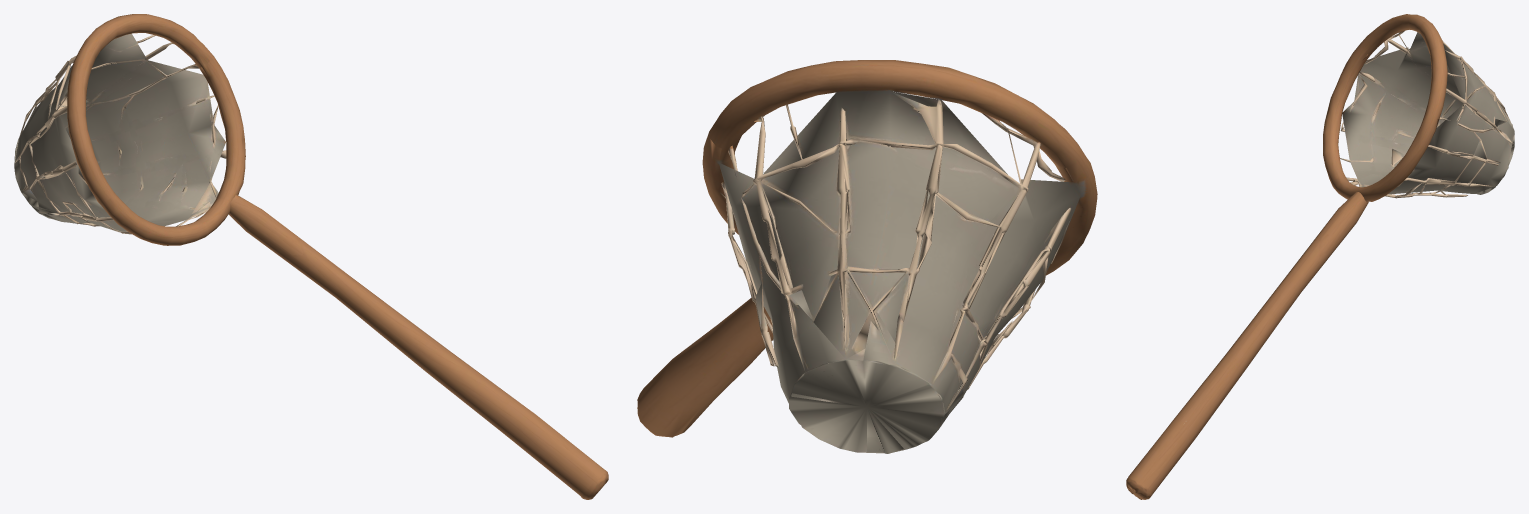
Rendered from web-bug-net.glb.
The picture shows the model from 3 angles, left to right: view 1: azimuth 30°, elevation 25°; view 2: azimuth 150°, elevation 25°; view 3: azimuth 270°, elevation 25°; orthographic projection. The views are drawn at different scales.
Parts seen in each view (by area): view 1: Woodland Web Net; view 2: Woodland Web Net; view 3: Woodland Web Net.
Boxes of the visible parts, left/top/right/bottom form: Woodland Web Net: left=14, top=14, right=608, bottom=499; Woodland Web Net: left=637, top=60, right=1097, bottom=453; Woodland Web Net: left=1126, top=14, right=1514, bottom=499.
Size of the model in its own units: 0.9863 by 0.998 by 0.998.
Materials: 1 (1 with a texture image).
